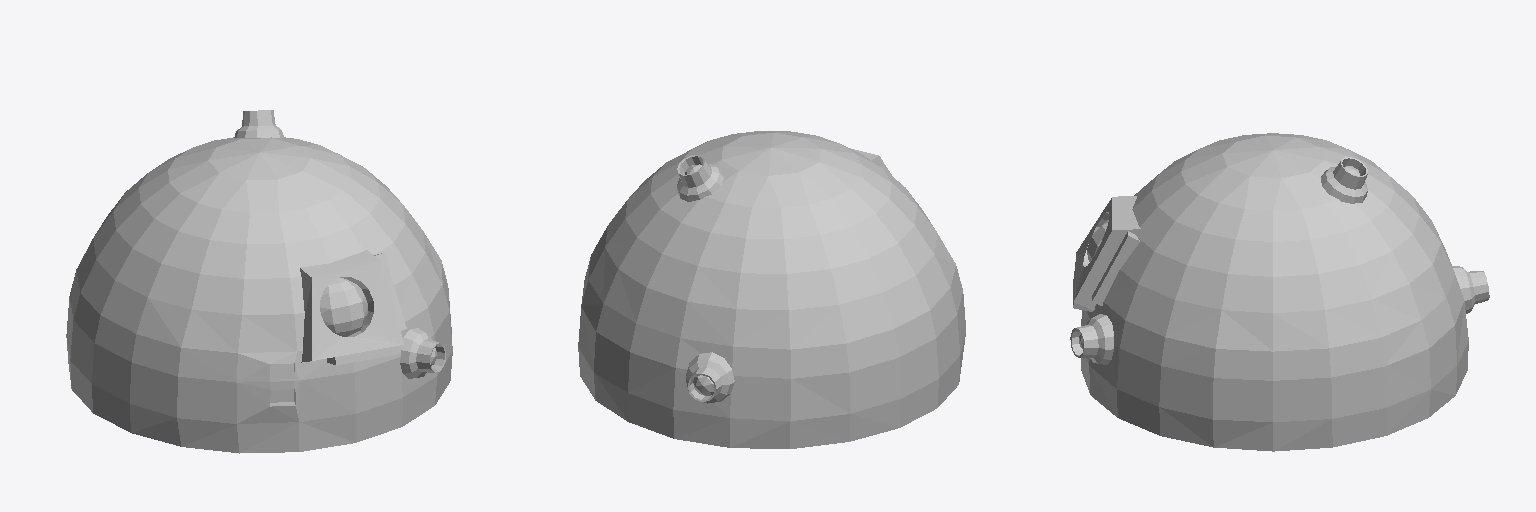
The model's file is R2D2_head.obj.
3 views of the same model, side by side, from view 1: azimuth 30°, elevation 25°; view 2: azimuth 150°, elevation 25°; view 3: azimuth 270°, elevation 25° (orthographic).
Parts seen in each view (by area): view 1: R2D2 polySurface244, R2D2 polySurface235, R2D2 polySurface248, R2D2 polySurface233, R2D2 polySurface234, R2D2 polySurface238; view 2: R2D2 polySurface244, polySurface232 R2D2, R2D2 polySurface234; view 3: R2D2 polySurface244, R2D2 polySurface235, R2D2 polySurface233, R2D2 polySurface234, R2D2 polySurface237, polySurface232 R2D2.
Boxes of the visible parts, x1,y1,x2,y2 form: R2D2 polySurface244: [66, 137, 452, 453]; R2D2 polySurface235: [300, 250, 403, 362]; R2D2 polySurface248: [320, 278, 367, 336]; R2D2 polySurface233: [400, 328, 445, 378]; R2D2 polySurface234: [234, 110, 283, 137]; R2D2 polySurface238: [327, 345, 400, 365]; R2D2 polySurface244: [578, 131, 965, 448]; polySurface232 R2D2: [686, 352, 734, 403]; R2D2 polySurface234: [677, 155, 723, 201]; R2D2 polySurface244: [1081, 133, 1468, 451]; R2D2 polySurface235: [1073, 196, 1140, 310]; R2D2 polySurface233: [1070, 314, 1113, 364]; R2D2 polySurface234: [1321, 157, 1367, 203]; R2D2 polySurface237: [1092, 231, 1140, 305]; polySurface232 R2D2: [1452, 266, 1489, 313].
Size of the model in its own units: 0.9339 by 0.6088 by 1.01.